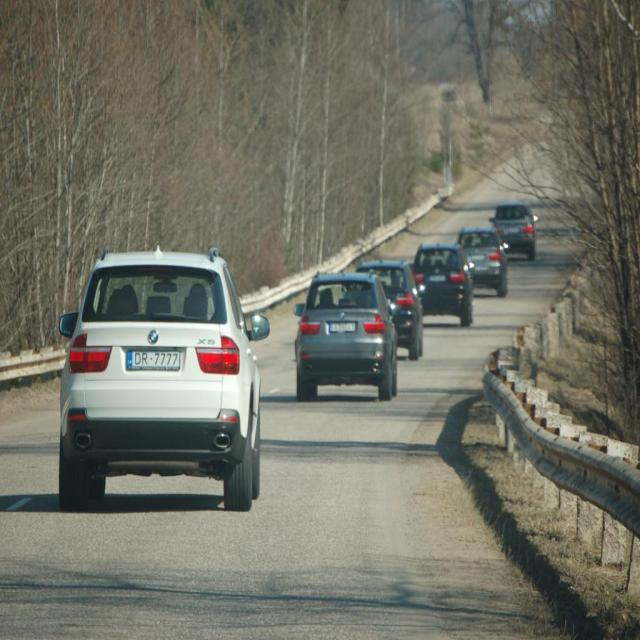car: (57, 242, 269, 506)
